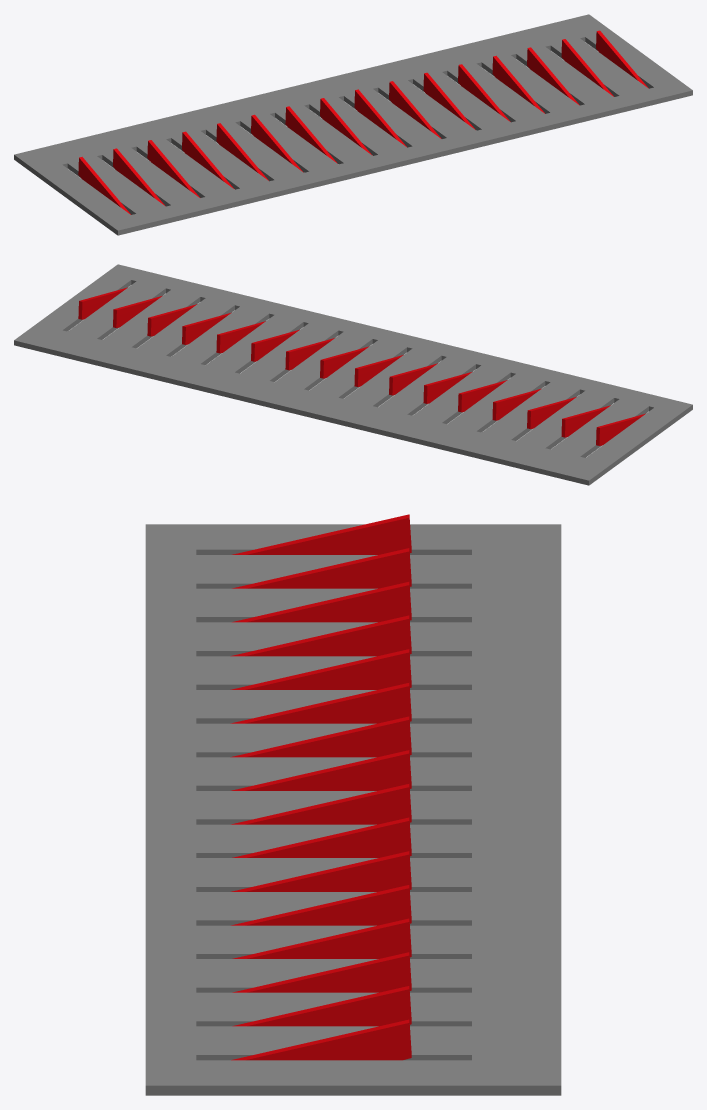
Rendered from spikes_2.fbx.
3 views of the same model, one above another, from view 1: azimuth 30°, elevation 25°; view 2: azimuth 150°, elevation 25°; view 3: azimuth 270°, elevation 25° (orthographic). The views are drawn at different scales.
Visible parts, largest first — view 1: Cube, Cube.001; view 2: Cube, Cube.001; view 3: Cube, Cube.001.
Boxes of the visible parts, x1,y1,x2,y2 form: Cube: (14,14,692,235); Cube.001: (78,30,648,214); Cube: (14,264,692,485); Cube.001: (78,287,645,445); Cube: (145,524,561,1095); Cube.001: (230,514,411,1060).
Bounding box in the file's own units: 6 × 0.2979 × 1.88.
